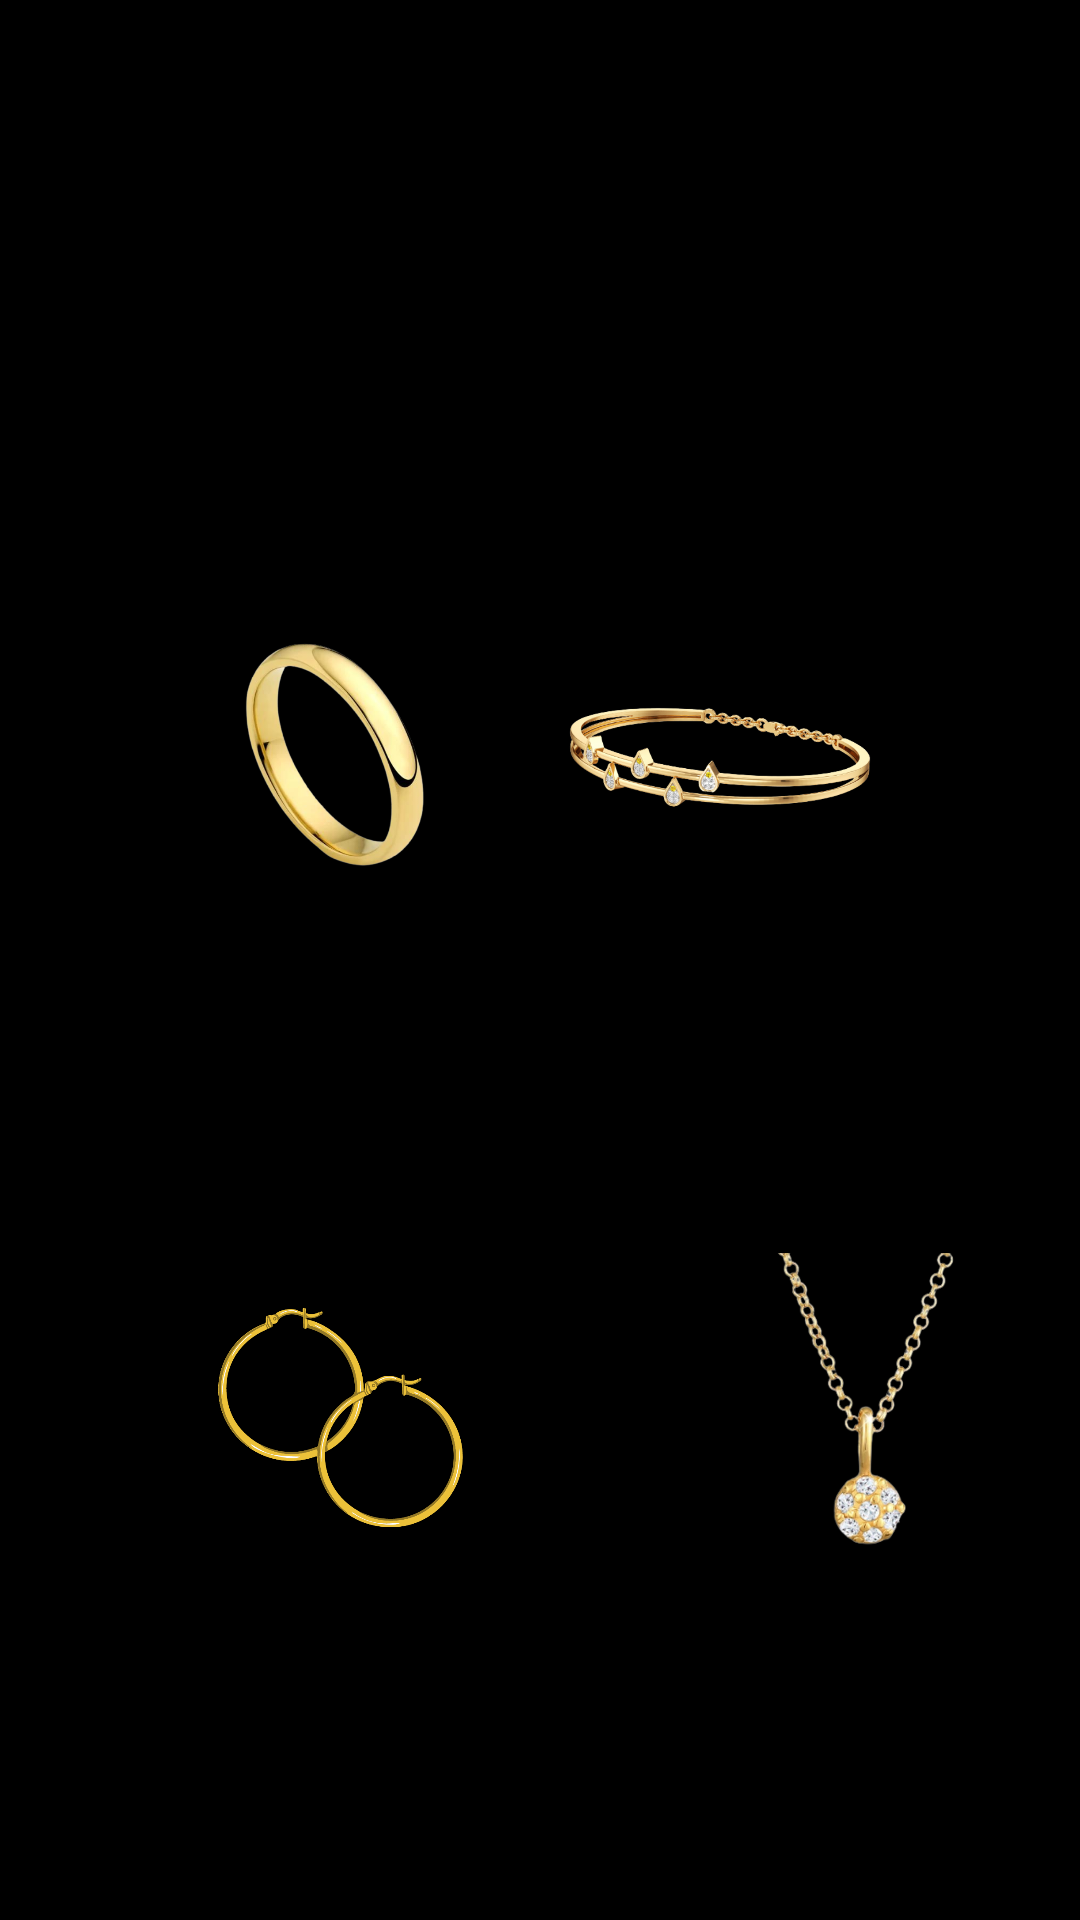

Named icons in this screenshot (1080px×1920px) and their centers, (x,y):
gbracelet: (720,757)
gearrings: (340,1417)
gnecklace: (865,1399)
gring: (335,755)
